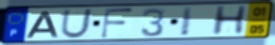3: (141, 7, 166, 38)
A: (25, 11, 61, 39)
F: (99, 7, 136, 39)
H: (210, 5, 249, 37)
I: (179, 6, 195, 38)
U: (59, 8, 95, 39)
